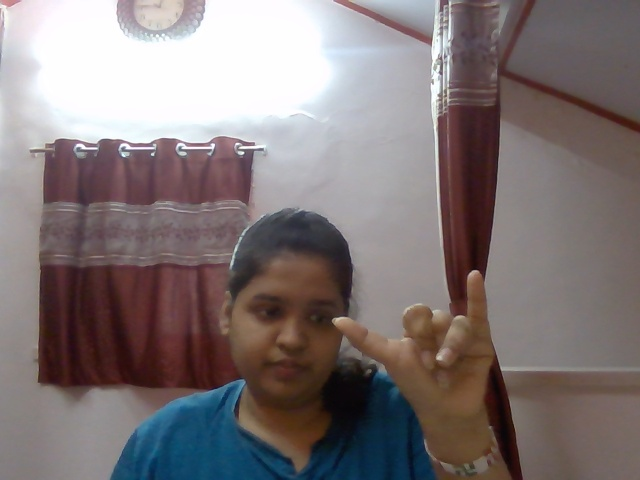y: (315, 259, 547, 413)
